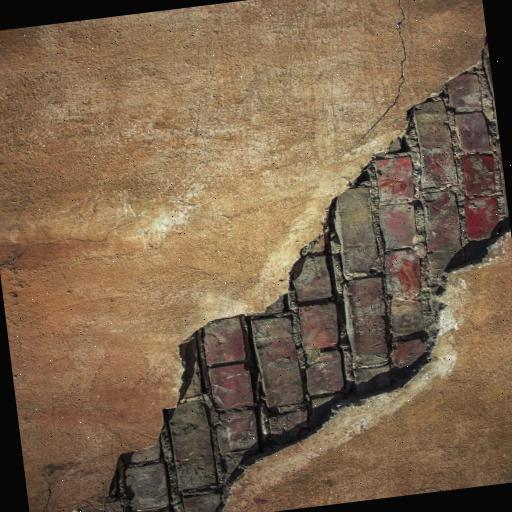spalling: (80, 62, 508, 512)
